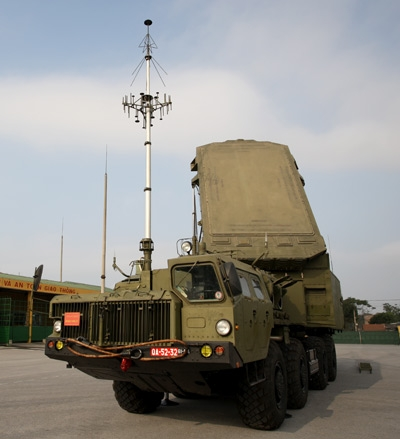plate: (147, 345, 182, 360)
